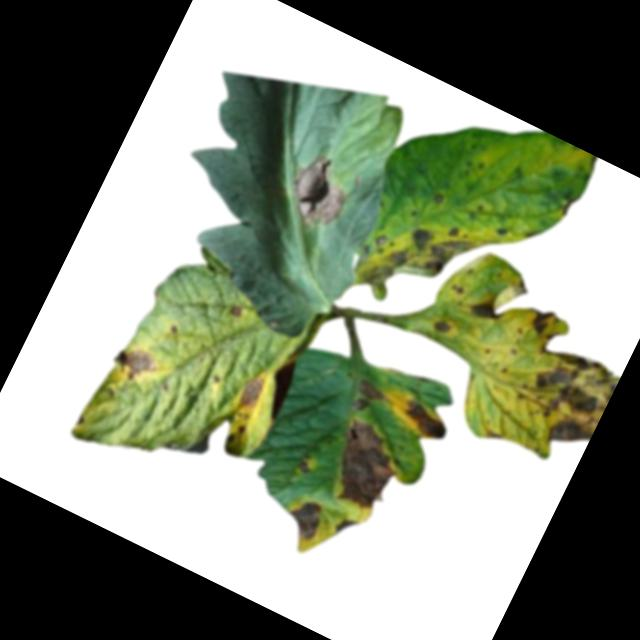Early_blight: (350, 194, 479, 324), (506, 331, 624, 455), (317, 416, 410, 518), (282, 148, 363, 233), (109, 337, 167, 388), (397, 394, 456, 444), (281, 492, 332, 546), (461, 290, 509, 331), (232, 370, 271, 416), (348, 376, 388, 420), (528, 301, 559, 338), (331, 511, 362, 542), (223, 416, 250, 447), (431, 314, 458, 339), (510, 274, 534, 299), (296, 450, 319, 475), (477, 423, 503, 444), (492, 217, 513, 239), (227, 299, 247, 320), (430, 189, 448, 206)
